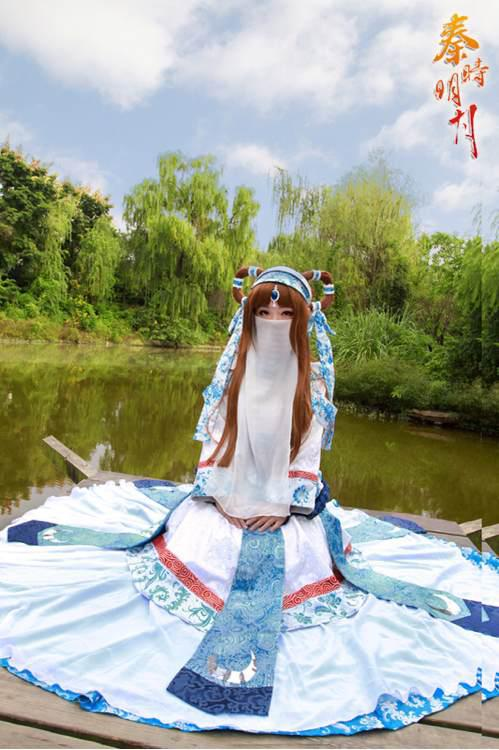OK: (254, 302, 299, 347)
